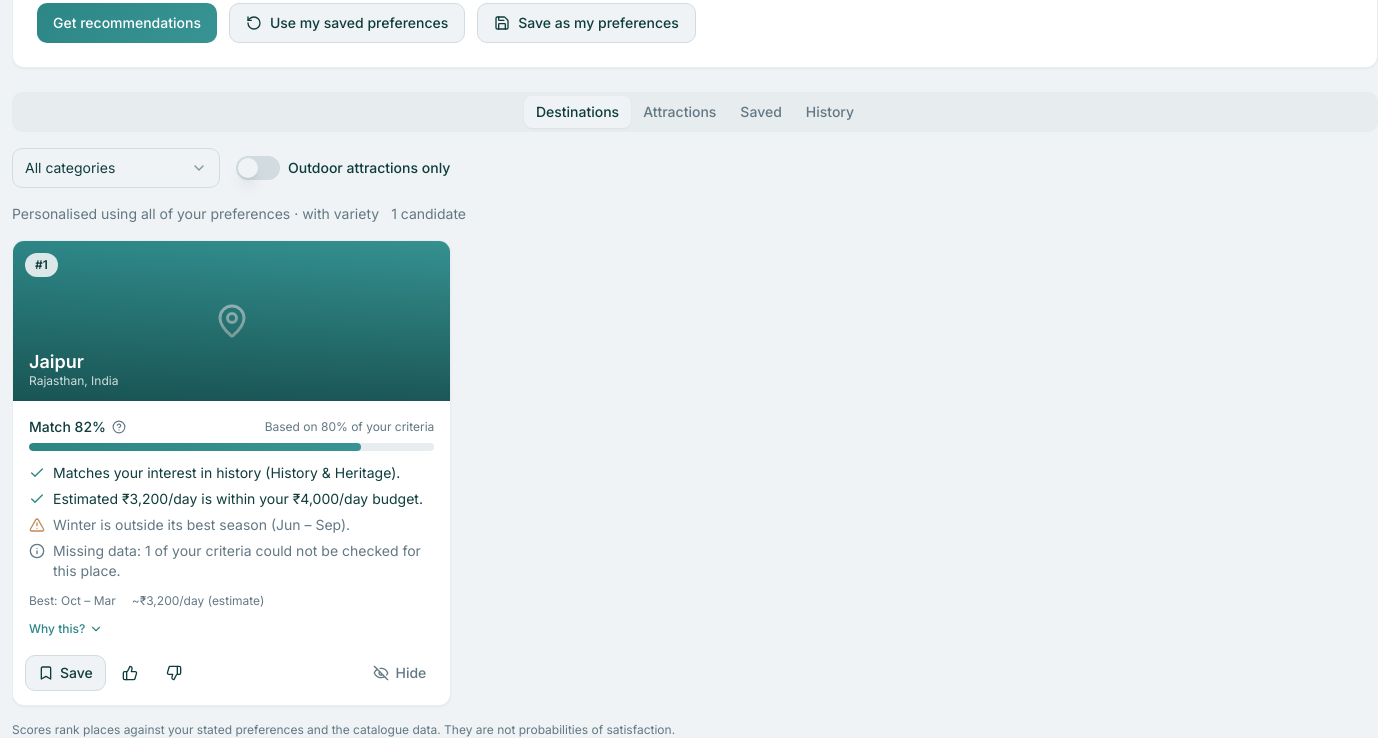
Test case: Recommendations page › expands "Why this?" to show each factor, its weight and its status, hiding unused factors
(page scrolled)
Click the button "Why this?".
click(66, 629)  # box 29,621 -> 103,637
(page scrolled)
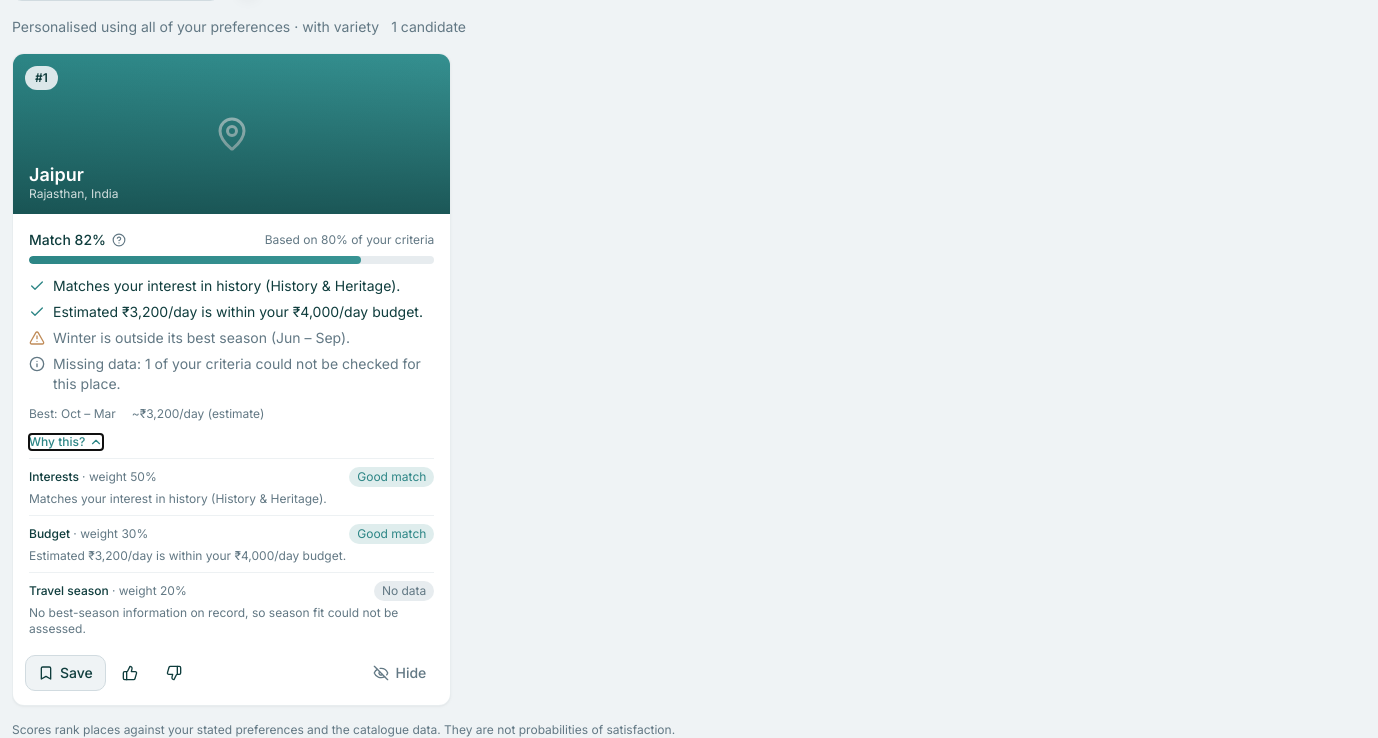
Expected: the text "· weight 50%" is shown, 82,469 -> 157,484
Expected: the text "Good match" is shown 2 times, 349,467 -> 434,487; 349,524 -> 434,544
Expected: the text "No data" is shown, 374,581 -> 434,601
